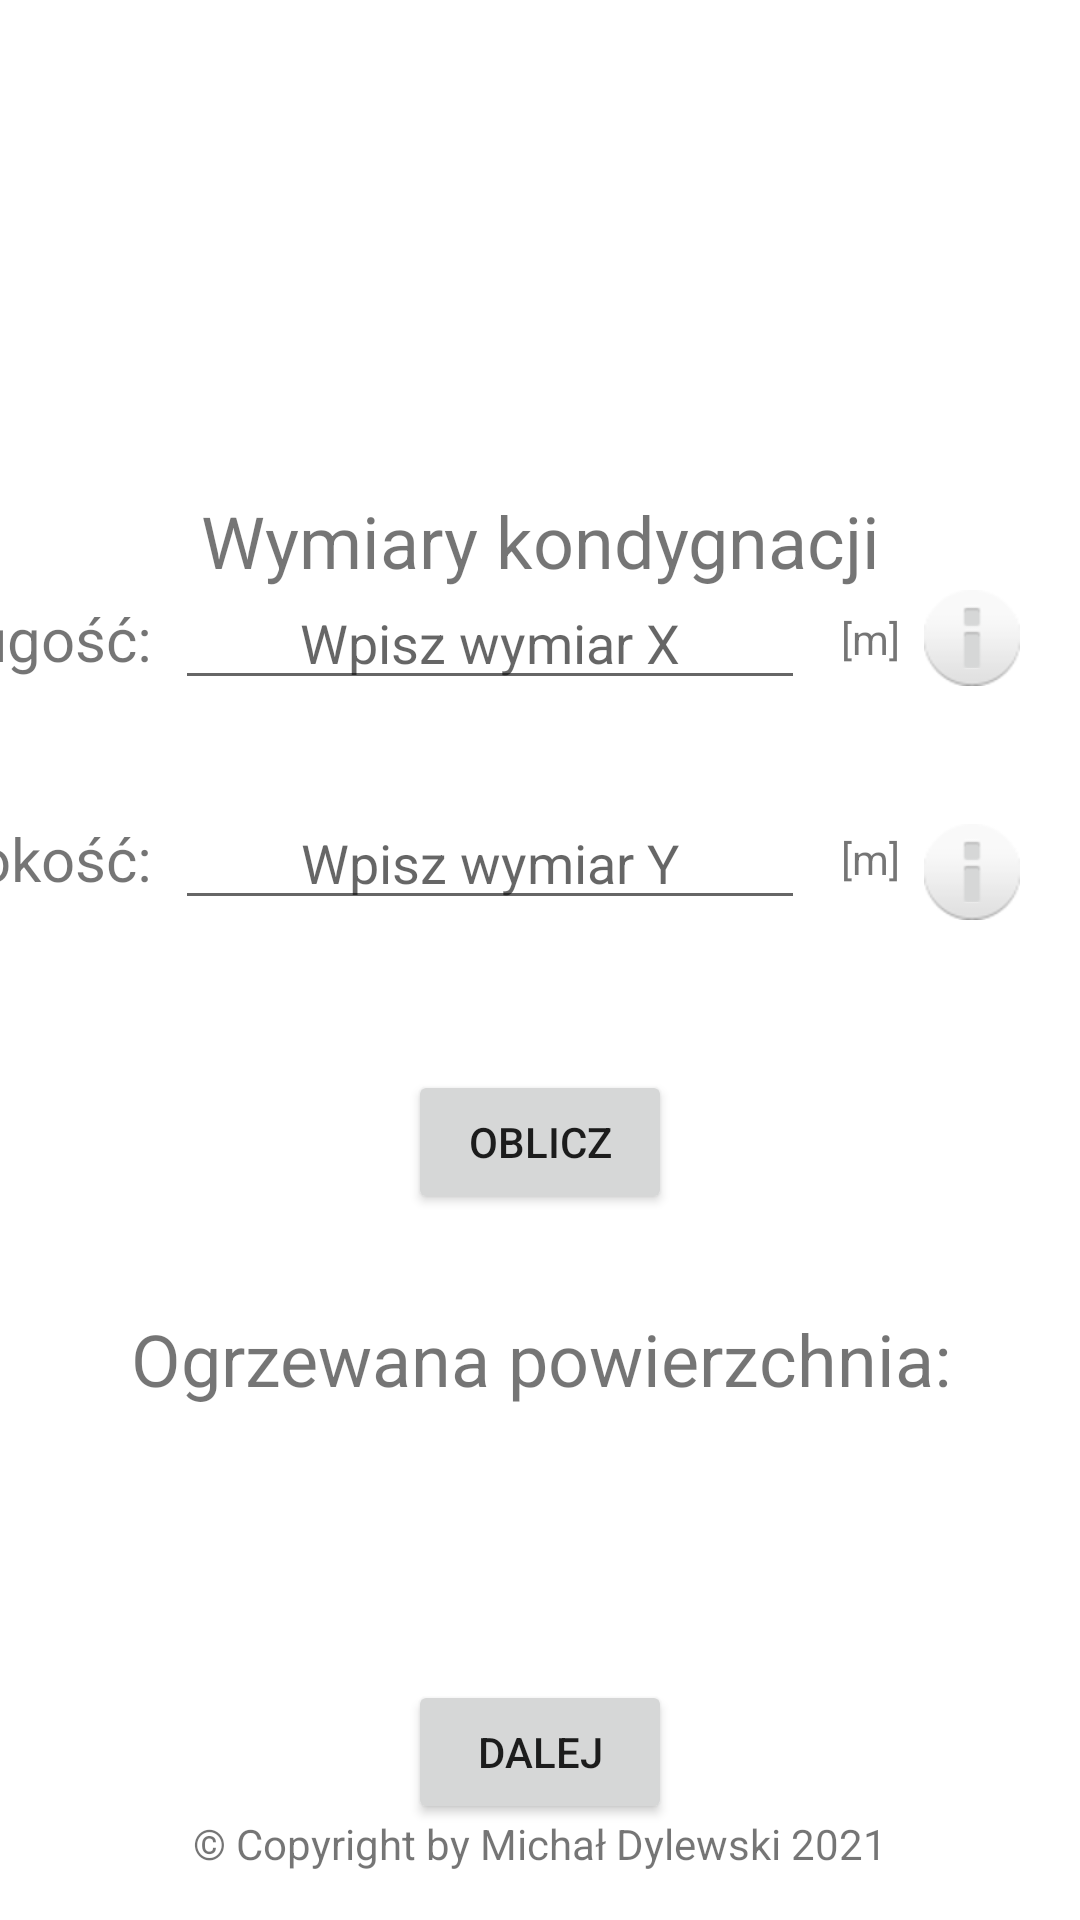

Locate icon controls on the screen. Image size 1080w x 1920h, boxes as (x1, y1, x2, y2).
info: (924, 607, 1020, 686), (924, 841, 1020, 920)
